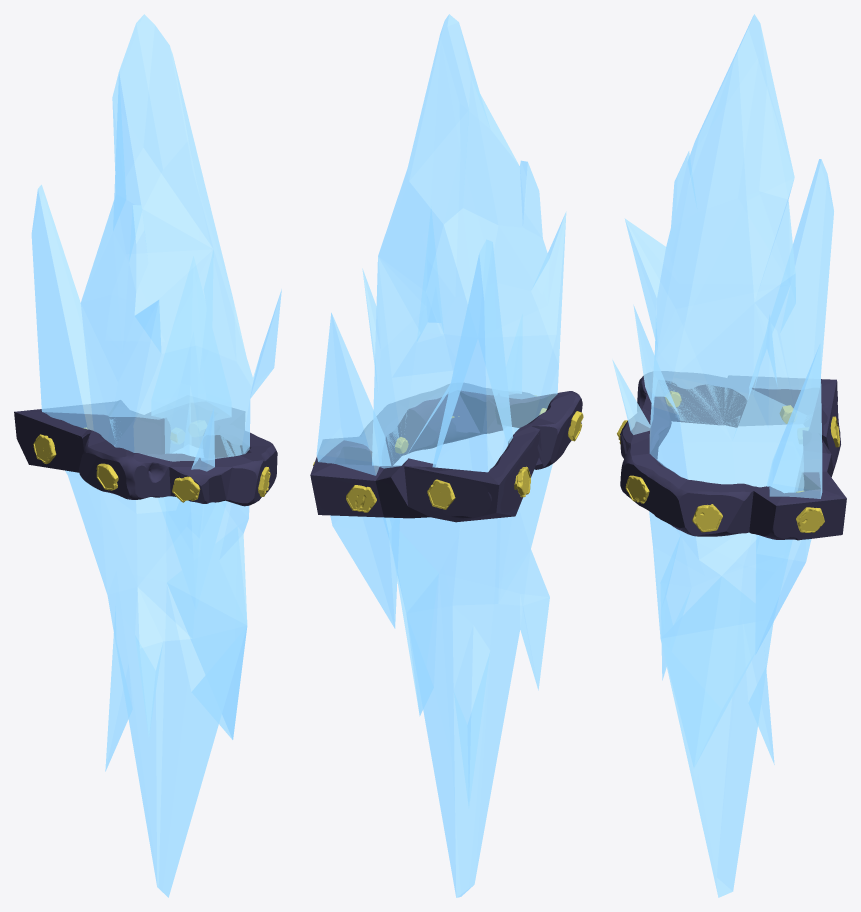
File: Crystal.fbx
3 views of the same model, side by side, from view 1: azimuth 30°, elevation 25°; view 2: azimuth 150°, elevation 25°; view 3: azimuth 270°, elevation 25° (orthographic). The views are drawn at different scales.
Visible parts, largest first — view 1: Cube.001, Cube.002_dmg, Cylinder.007_dmg; view 2: Cube.001, Cube.002_dmg, Cylinder.007_dmg; view 3: Cube.001, Cube.002_dmg, Cylinder.007_dmg.
Boxes of the visible parts, x1,y1,x2,y2 form: Cube.001: (31,14,281,897); Cube.002_dmg: (14,400,277,506); Cylinder.007_dmg: (33,427,270,502); Cube.001: (316,14,566,897); Cube.002_dmg: (310,383,582,522); Cylinder.007_dmg: (313,395,583,512); Cube.001: (612,14,833,897); Cube.002_dmg: (620,371,846,540); Cylinder.007_dmg: (617,391,839,532).
Size of the model in its own units: 668 by 2743 by 663.
